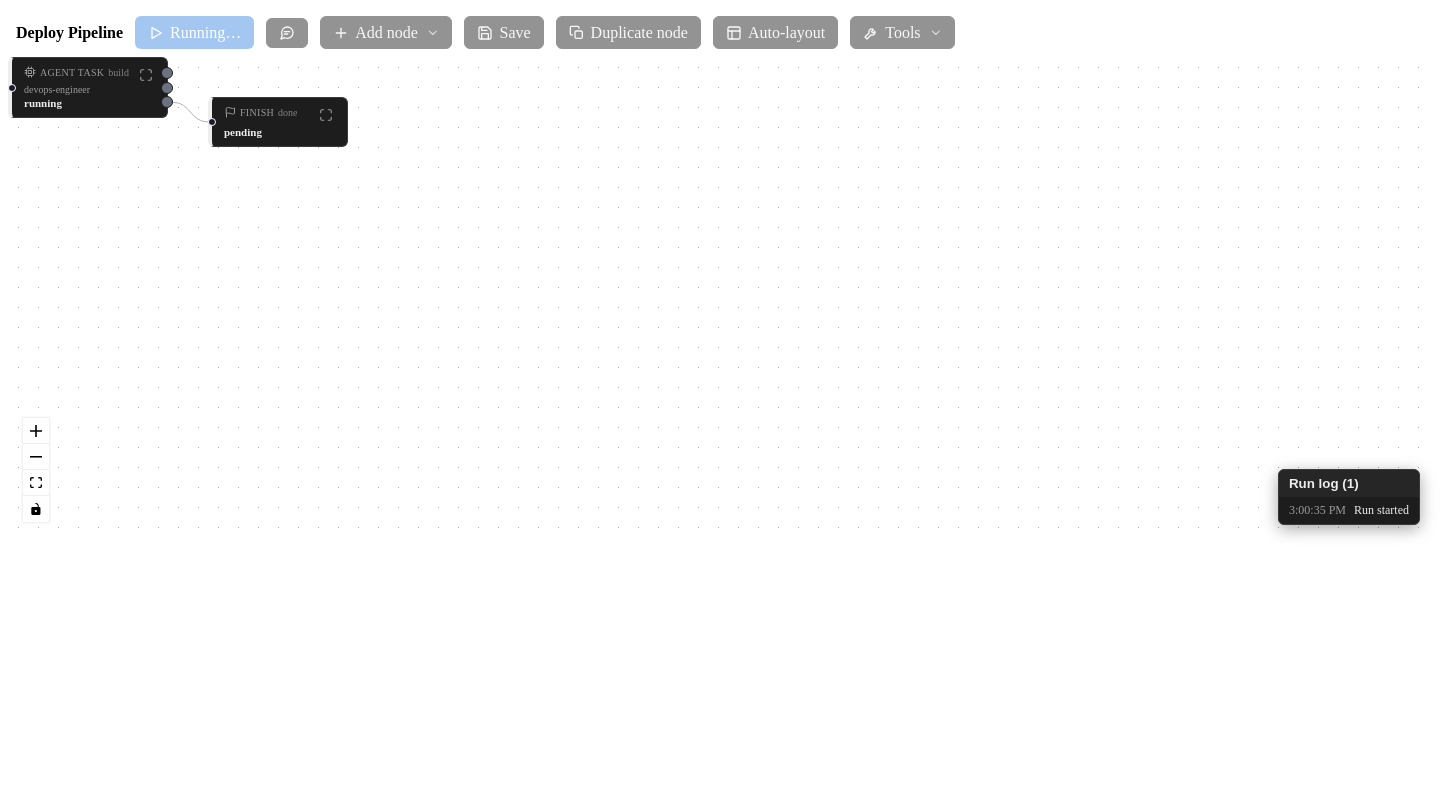
Scenario: FlowEditor playback › opens a node read-only while the run plays
expect the element showing "Agent task build devops-engineer running" is shown: met, box [8, 57, 168, 118]
Click the button named "Open node build" at (146, 75), box [137, 66, 155, 84]
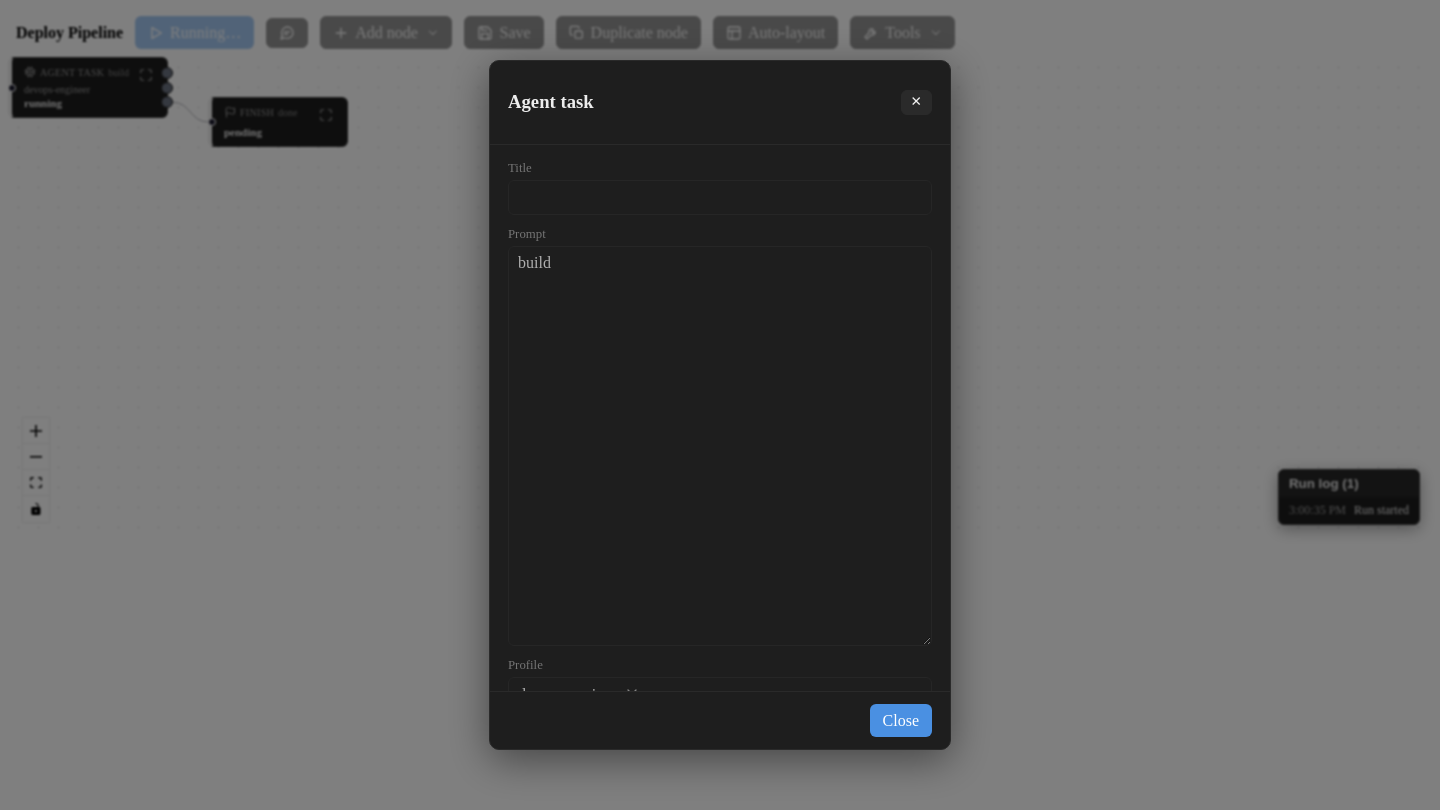
expect the text box labelled "Prompt" is disabled: met, box [508, 246, 932, 646]
